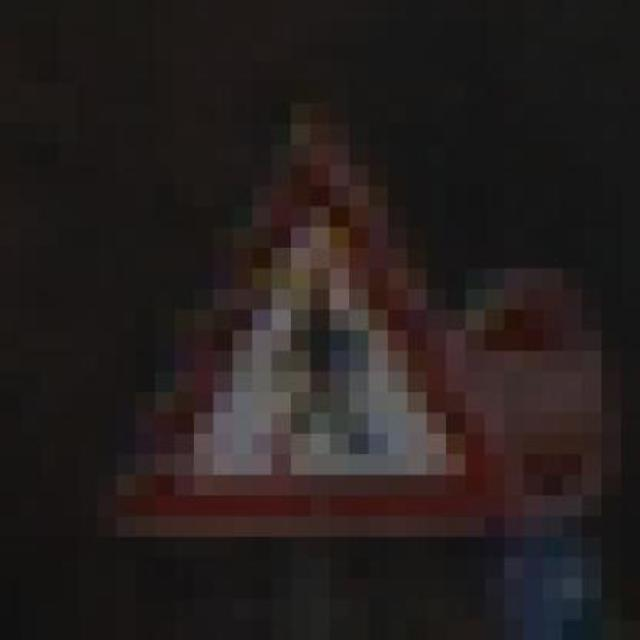Pedestrian Crossing: (58, 123, 524, 537)
